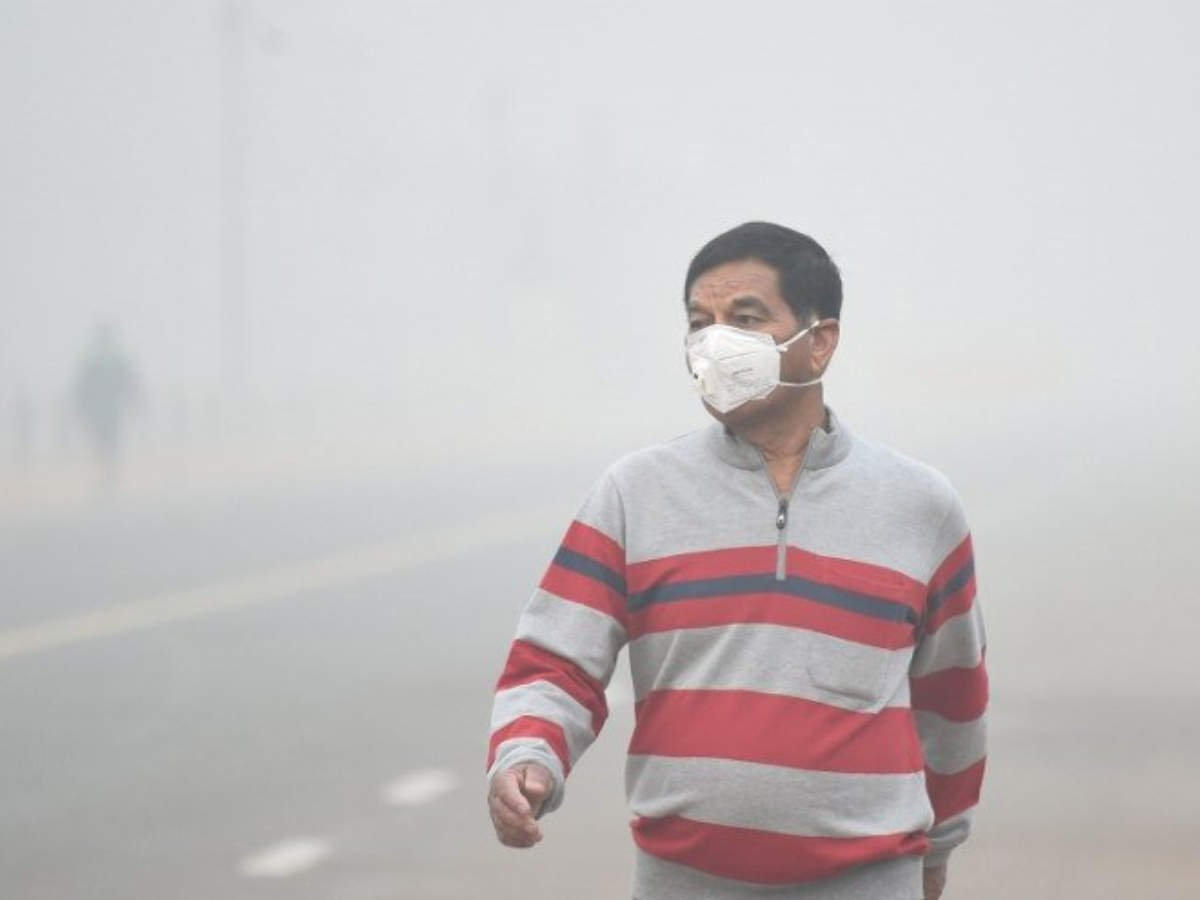mask: (651, 211, 879, 428)
